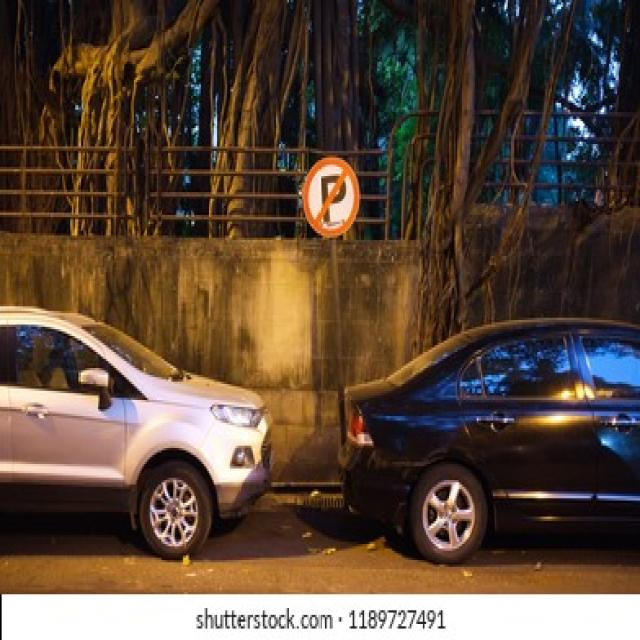Traffic sign: (306, 153, 359, 234)
